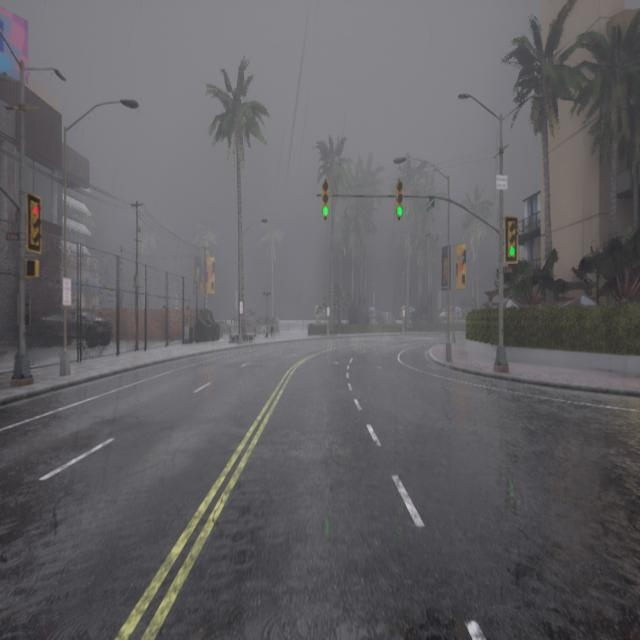bien_chi_dan: (27, 189, 42, 248), (504, 215, 518, 262), (320, 177, 332, 222), (396, 178, 405, 220), (28, 200, 40, 218), (507, 243, 518, 261), (319, 206, 332, 220), (396, 205, 405, 218)
